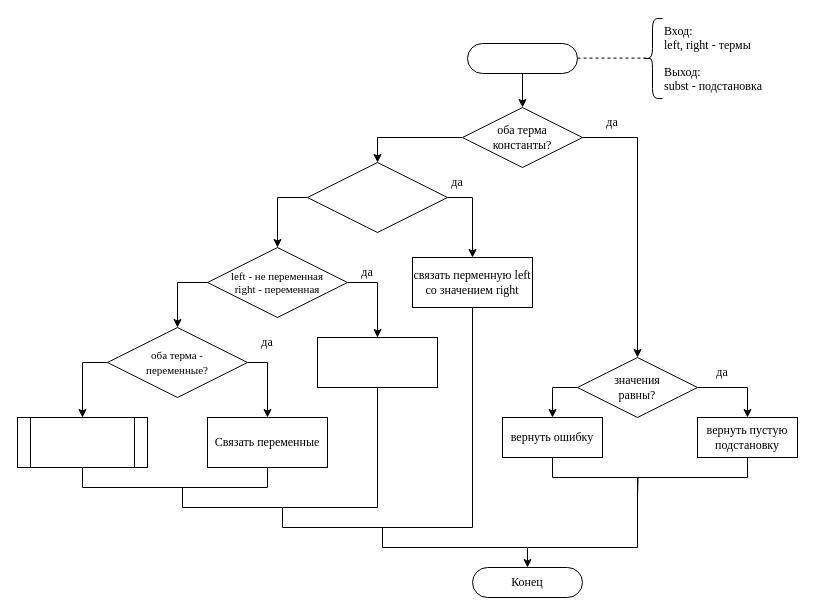
Image size: 815x615. Some labels were removed from this diagram. The box of each missing label's shape, as (x1, y1, x2, y2) in pixels:
left - переменная right - не переменная: (306, 162, 448, 232)
Начало: (466, 42, 578, 74)
связать перменную right со значением left: (316, 336, 438, 388)
унификация функциональных символов: (16, 416, 148, 468)
